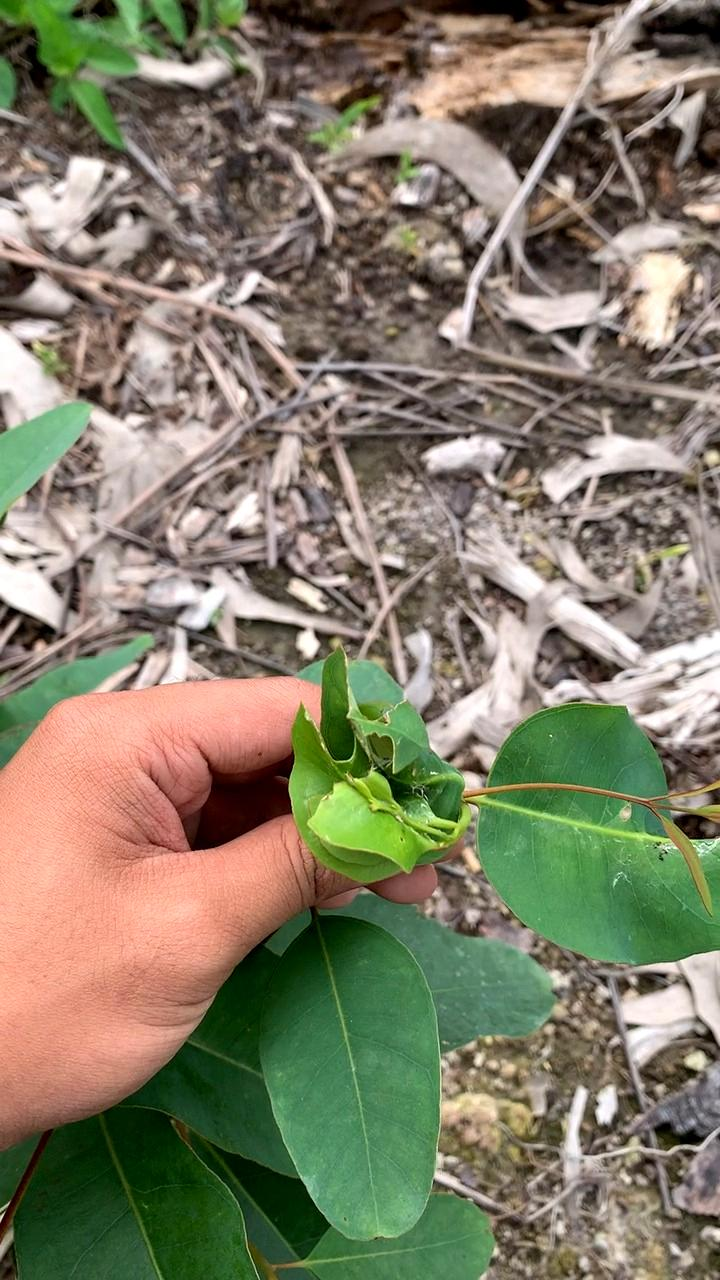Leaf Roller - Leaf: (296, 653, 461, 881)
